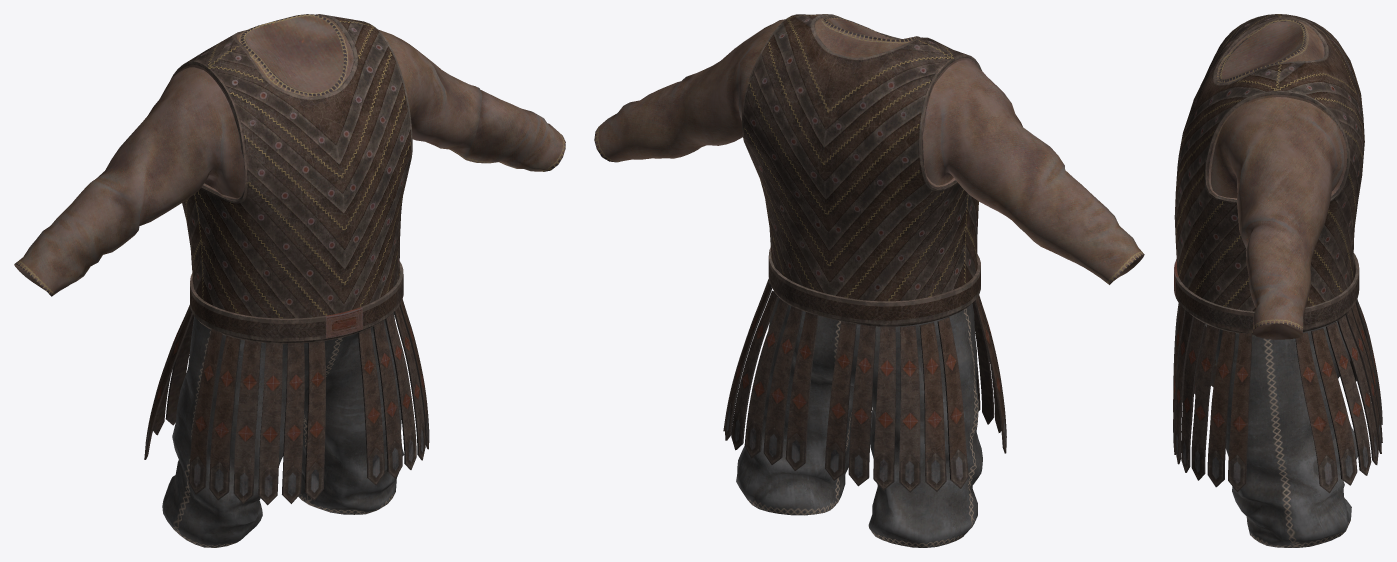
Rendered from sk_dwarf_iron_chest_light_b.fbx.
3 views of the same model, side by side, from view 1: azimuth 30°, elevation 25°; view 2: azimuth 150°, elevation 25°; view 3: azimuth 270°, elevation 25° (orthographic). The views are drawn at different scales.
Parts seen in each view (by area): view 1: sk_dwarf_iron_chest_light_b.2, sk_dwarf_iron_chest_light_b.1, sk_dwarf_iron_chest_light_b.0; view 2: sk_dwarf_iron_chest_light_b.2, sk_dwarf_iron_chest_light_b.1, sk_dwarf_iron_chest_light_b.0; view 3: sk_dwarf_iron_chest_light_b.2, sk_dwarf_iron_chest_light_b.1, sk_dwarf_iron_chest_light_b.0.
Boxes of the visible parts, x1,y1,x2,y2 form: sk_dwarf_iron_chest_light_b.2: [14, 14, 565, 343]; sk_dwarf_iron_chest_light_b.1: [144, 299, 429, 505]; sk_dwarf_iron_chest_light_b.0: [162, 312, 404, 547]; sk_dwarf_iron_chest_light_b.2: [594, 14, 1144, 326]; sk_dwarf_iron_chest_light_b.1: [723, 278, 1006, 492]; sk_dwarf_iron_chest_light_b.0: [736, 297, 982, 547]; sk_dwarf_iron_chest_light_b.2: [1174, 14, 1364, 339]; sk_dwarf_iron_chest_light_b.1: [1173, 299, 1382, 493]; sk_dwarf_iron_chest_light_b.0: [1205, 321, 1357, 547].
Bounding box in the file's own units: 1.17 × 0.4107 × 1.02.
